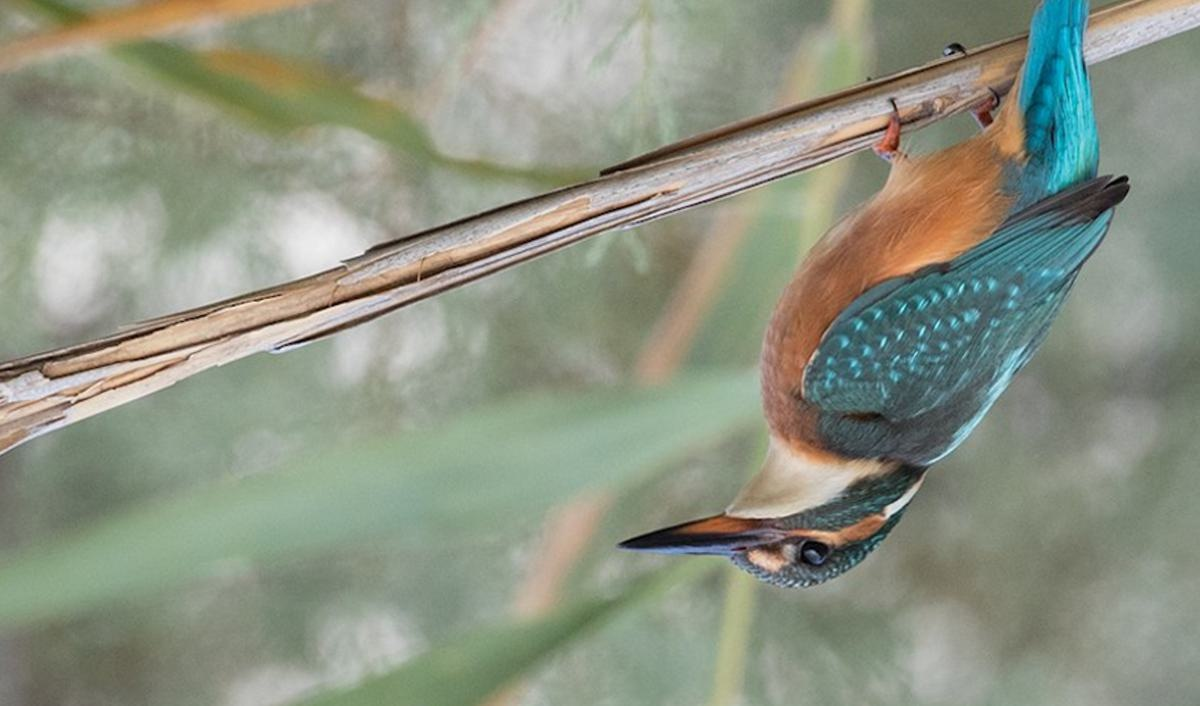kingfisher: (615, 21, 1119, 618)
